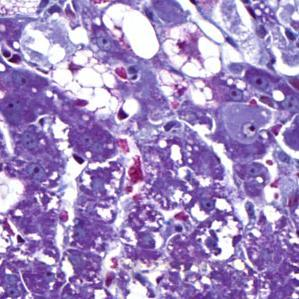ballooning: (20, 21, 122, 115), (98, 2, 164, 61), (161, 23, 226, 81)
